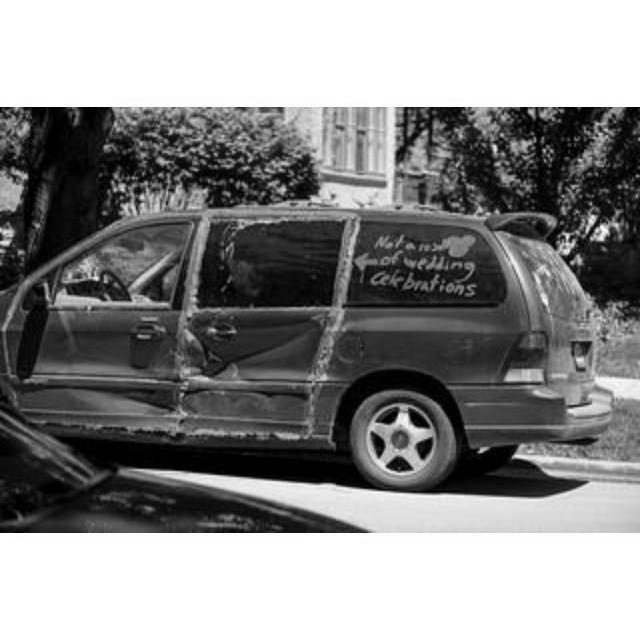Rear-windscreen-Damage: (488, 217, 600, 319)
doorouter-dent: (28, 219, 186, 431), (192, 219, 334, 441)
